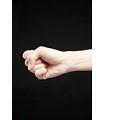gu-: (22, 46, 65, 81)
